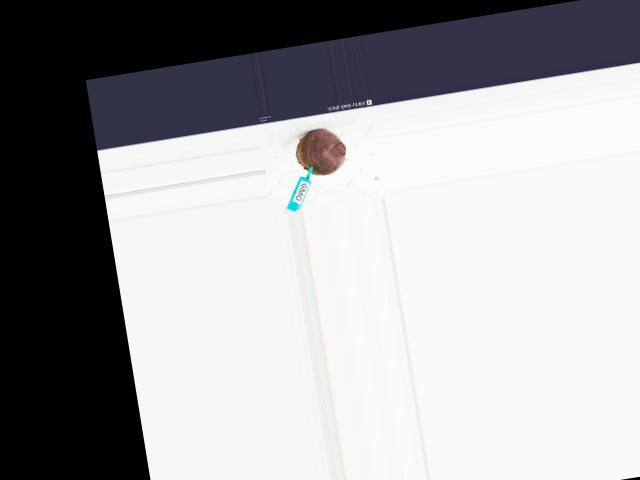beet: (292, 124, 348, 179)
